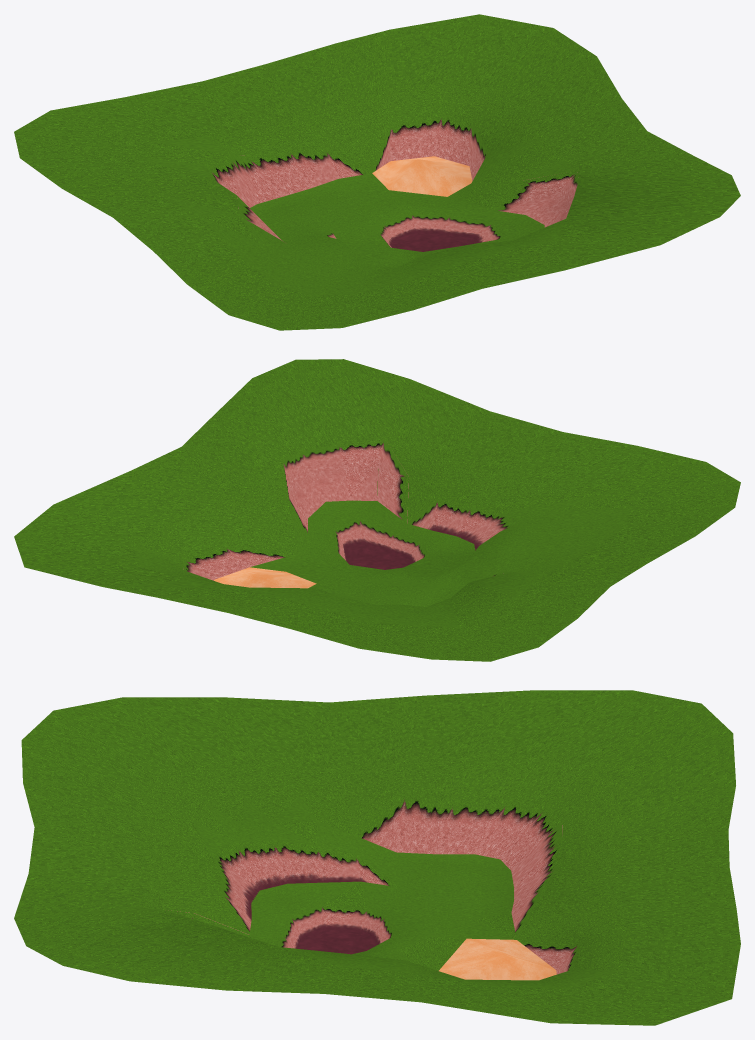
File: Ground.gltf
3 views of the same model, one above another, from view 1: azimuth 30°, elevation 25°; view 2: azimuth 150°, elevation 25°; view 3: azimuth 270°, elevation 25° (orthographic). The views are drawn at different scales.
Visible parts, largest first — view 1: Ground; view 2: Ground; view 3: Ground.
Boxes of the visible parts, box(x1,y1,x2,y2) form: Ground: box(14, 14, 740, 330); Ground: box(14, 359, 740, 661); Ground: box(14, 690, 740, 1025).
Size of the model in its own units: 41.86 by 6.1 by 39.58.
Materials: 6 (6 with a texture image).
